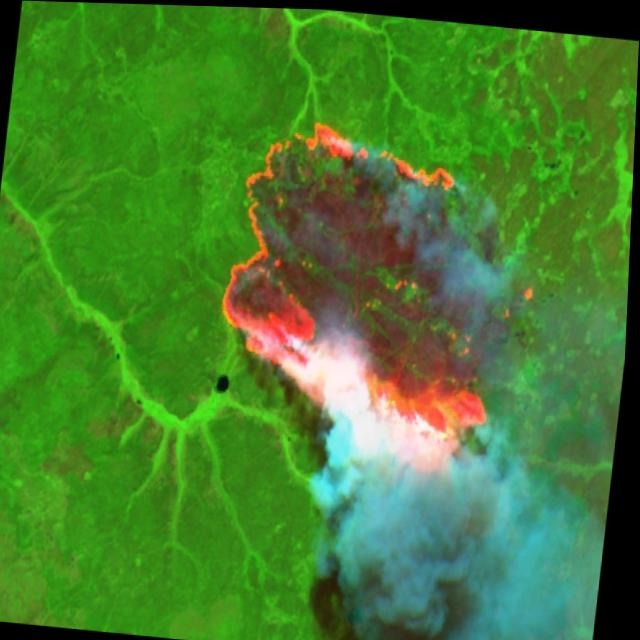fire: (203, 107, 557, 492)
